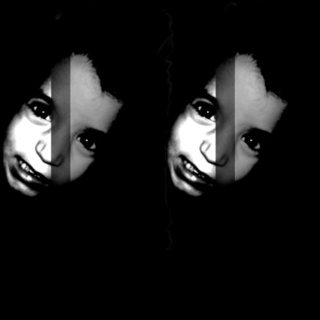without_mask: (168, 55, 287, 197), (3, 57, 121, 197)
